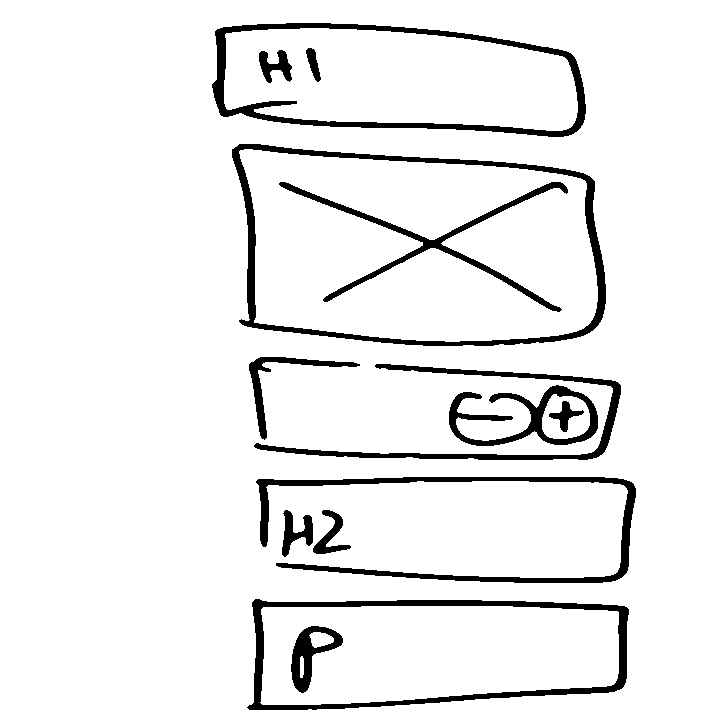heading1: (201, 18, 591, 141)
heading2: (253, 472, 642, 589)
inline stepper bar: (242, 352, 626, 465)
paragraph: (244, 594, 640, 712)
picture: (228, 141, 616, 349)
